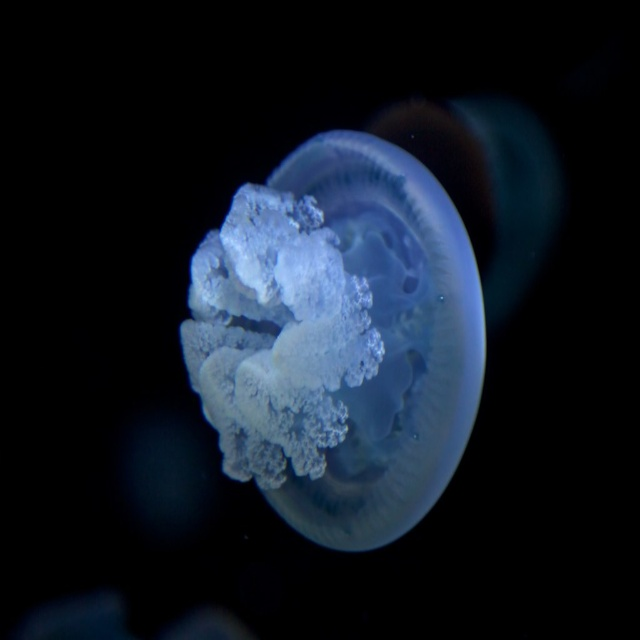Jellyfish: (176, 125, 487, 549)
